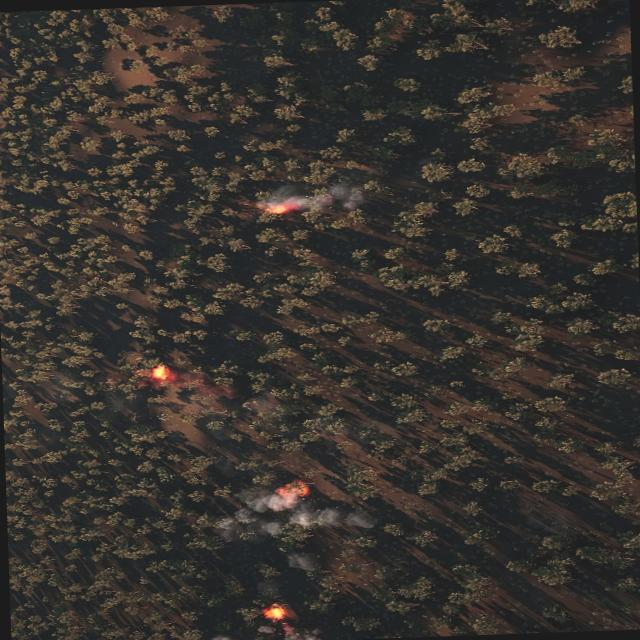fire: (277, 480, 310, 498), (268, 202, 292, 214), (264, 604, 284, 618), (151, 364, 168, 378)
smoke: (218, 481, 376, 574), (258, 179, 368, 213), (253, 619, 328, 640), (207, 632, 237, 640)
